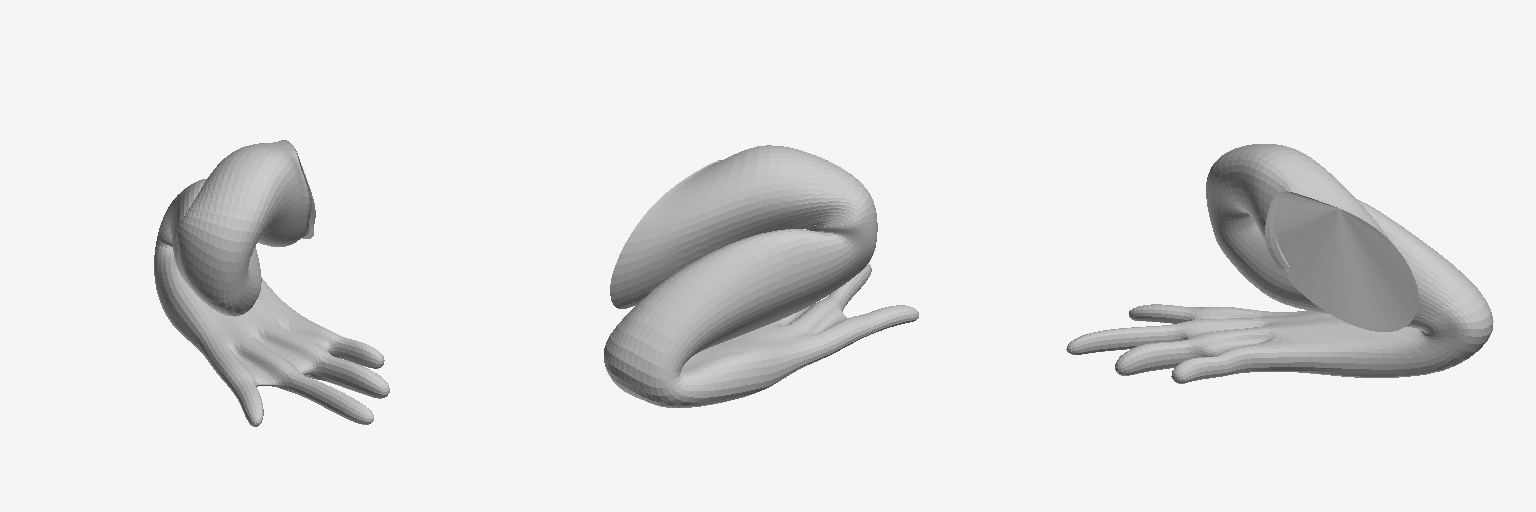
File: frog-rightleg.obj
3 renders of one model, left to right at view 1: azimuth 30°, elevation 25°; view 2: azimuth 150°, elevation 25°; view 3: azimuth 270°, elevation 25°, orthographic.
Visible parts, largest first — view 1: frog.001; view 2: frog.001; view 3: frog.001.
Boxes of the visible parts, <box> form: frog.001: <box>154,140,389,426</box>; frog.001: <box>604,145,918,407</box>; frog.001: <box>1066,144,1493,383</box>.
Bounding box in the file's own units: 1.56 × 1.74 × 3.24.